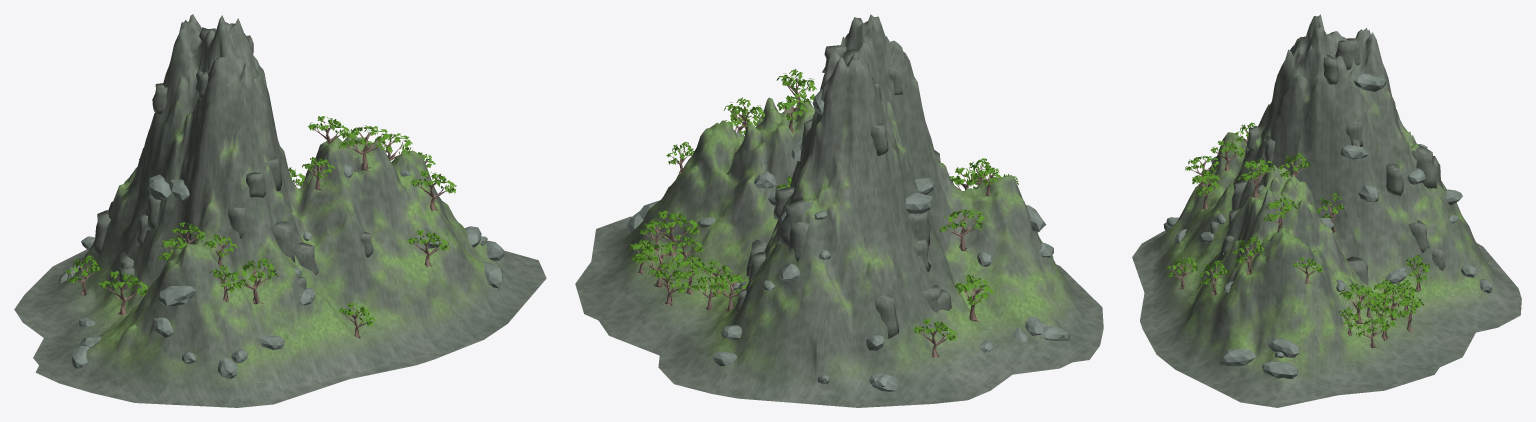
File: son-tru.glb
3 renders of one model, left to right at view 1: azimuth 30°, elevation 25°; view 2: azimuth 150°, elevation 25°; view 3: azimuth 270°, elevation 25°, orthographic. The views are drawn at different scales.
Visible parts, largest first — view 1: Sơn Trụ · weathered mountain, Sơn Trụ talus.006, Sơn Trụ fractured bedrock.005, Sơn Trụ canopy.004, Sơn Trụ canopy.002, Sơn Trụ fractured bedrock.011, Sơn Trụ canopy.001, Sơn Trụ fractured bedrock.008; view 2: Sơn Trụ · weathered mountain, Sơn Trụ fractured bedrock.021, Sơn Trụ fractured bedrock.008, Sơn Trụ canopy.004, Sơn Trụ canopy.010, Sơn Trụ fractured bedrock.002, Sơn Trụ fractured bedrock, Sơn Trụ canopy.001, Sơn Trụ canopy.018, Sơn Trụ canopy.019, Sơn Trụ talus.021; view 3: Sơn Trụ · weathered mountain, Sơn Trụ fractured bedrock.021, Sơn Trụ fractured bedrock.004, Sơn Trụ talus.020, Sơn Trụ talus.030, Sơn Trụ fractured bedrock.010, Sơn Trụ talus.019, Sơn Trụ talus.027, Sơn Trụ canopy.004, Sơn Trụ canopy.010, Sơn Trụ fractured bedrock.016, Sơn Trụ canopy.024 (+5 smaller).
Boxes of the visible parts, bbox=[...] form: Sơn Trụ · weathered mountain: bbox=[14, 14, 546, 407]; Sơn Trụ talus.006: bbox=[157, 285, 196, 306]; Sơn Trụ fractured bedrock.005: bbox=[271, 221, 295, 262]; Sơn Trụ canopy.004: bbox=[338, 125, 390, 149]; Sơn Trụ canopy.002: bbox=[232, 258, 278, 288]; Sơn Trụ fractured bedrock.011: bbox=[292, 242, 318, 274]; Sơn Trụ canopy.001: bbox=[98, 271, 149, 296]; Sơn Trụ fractured bedrock.008: bbox=[92, 210, 110, 255]; Sơn Trụ · weathered mountain: bbox=[575, 14, 1103, 407]; Sơn Trụ fractured bedrock.021: bbox=[778, 197, 813, 246]; Sơn Trụ fractured bedrock.008: bbox=[874, 294, 898, 338]; Sơn Trụ canopy.004: bbox=[776, 69, 817, 102]; Sơn Trụ canopy.010: bbox=[647, 210, 699, 235]; Sơn Trụ fractured bedrock.002: bbox=[789, 222, 809, 261]; Sơn Trụ fractured bedrock: bbox=[909, 210, 930, 246]; Sơn Trụ canopy.001: bbox=[955, 275, 994, 304]; Sơn Trụ canopy.018: bbox=[635, 244, 684, 268]; Sơn Trụ canopy.019: bbox=[939, 209, 985, 232]; Sơn Trụ talus.021: bbox=[905, 193, 932, 213]; Sơn Trụ · weathered mountain: bbox=[1132, 14, 1521, 407]; Sơn Trụ fractured bedrock.021: bbox=[1411, 144, 1436, 188]; Sơn Trụ fractured bedrock.004: bbox=[1335, 38, 1360, 70]; Sơn Trụ talus.020: bbox=[1219, 349, 1255, 366]; Sơn Trụ talus.030: bbox=[1262, 361, 1297, 378]; Sơn Trụ fractured bedrock.010: bbox=[1386, 163, 1403, 195]; Sơn Trụ talus.019: bbox=[1266, 337, 1299, 357]; Sơn Trụ talus.027: bbox=[1353, 73, 1386, 91]; Sơn Trụ canopy.004: bbox=[1238, 158, 1275, 181]; Sơn Trụ canopy.010: bbox=[1339, 283, 1379, 309]; Sơn Trụ fractured bedrock.016: bbox=[1408, 220, 1429, 252]; Sơn Trụ canopy.024: bbox=[1263, 197, 1297, 221].
Bounding box in the file's own units: 113 × 65.64 × 86.55.
4 materials, 4 textured.
